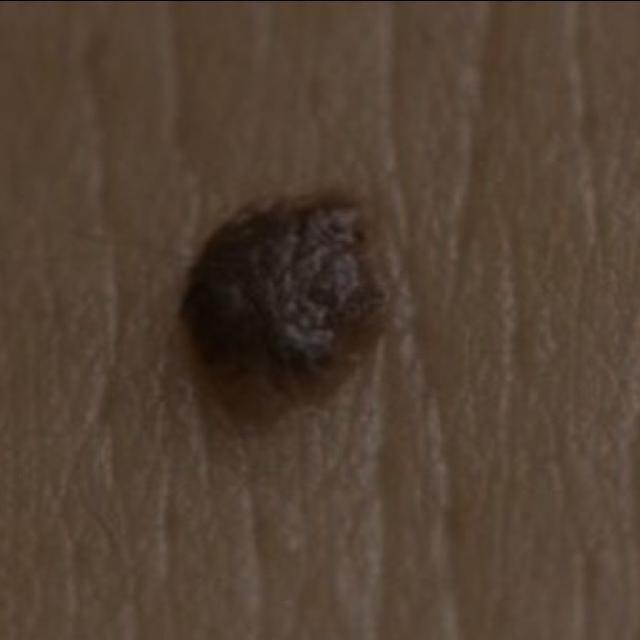wart: (156, 156, 417, 464)
